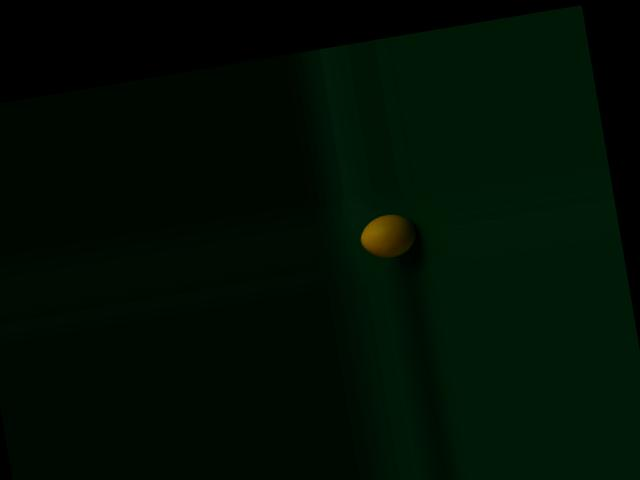egg: (356, 209, 419, 260)
